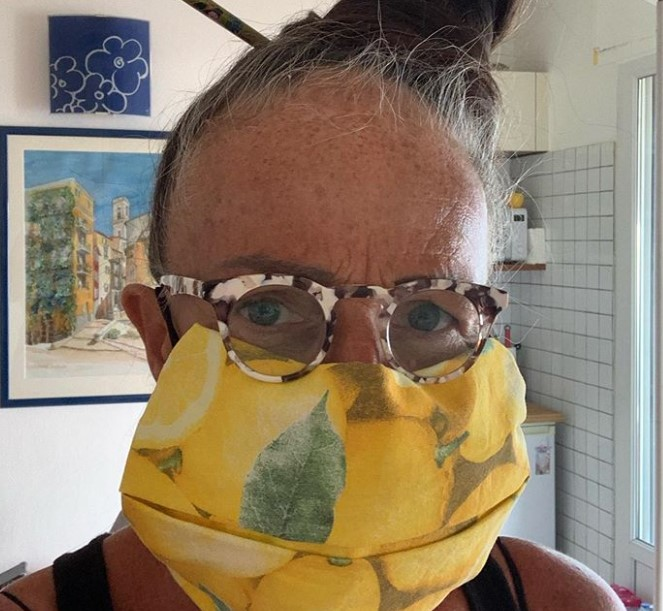face_with_mask: (120, 37, 533, 611)
